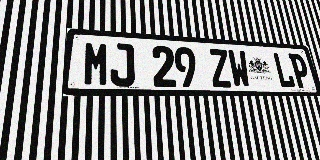2: (152, 45, 176, 87)
9: (174, 46, 198, 87)
J: (110, 43, 135, 87)
L: (272, 52, 296, 88)
M: (83, 41, 109, 86)
P: (288, 53, 312, 88)
W: (227, 50, 252, 88)
Z: (208, 49, 233, 87)
